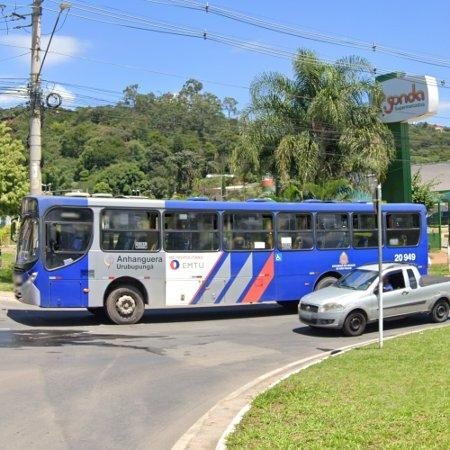buses: (384, 204, 430, 276)
